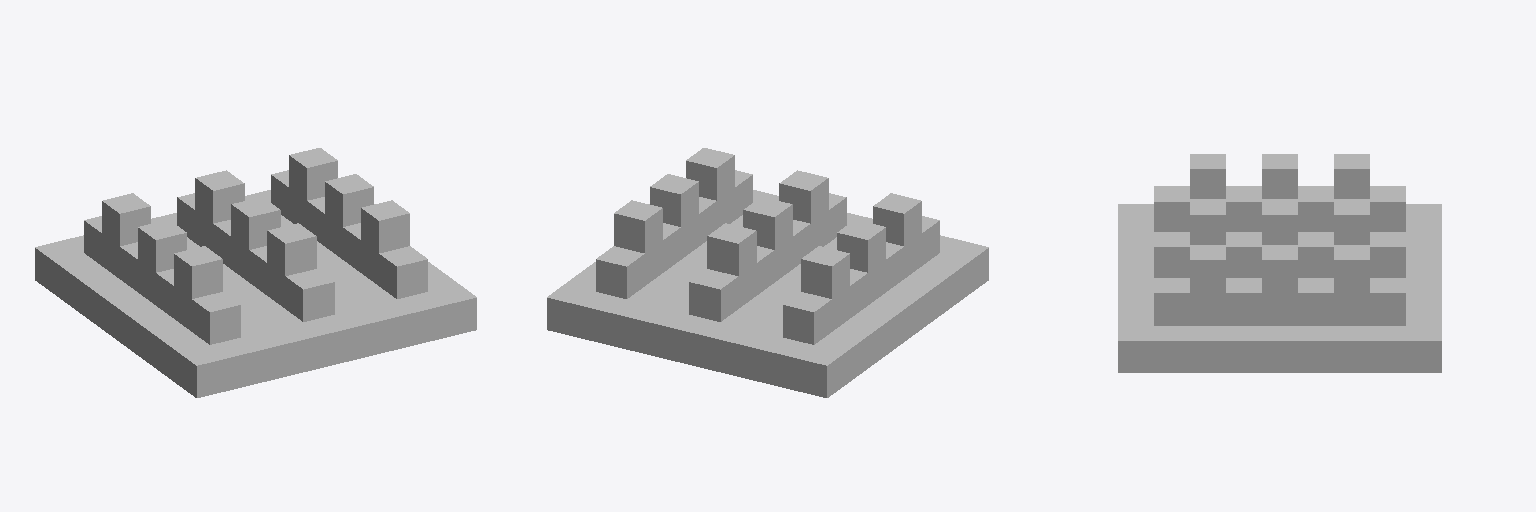
The model's file is Carrot 1.obj.
3 renders of one model, left to right at view 1: azimuth 30°, elevation 25°; view 2: azimuth 150°, elevation 25°; view 3: azimuth 270°, elevation 25°, orthographic.
Parts seen in each view (by area): view 1: object 1; view 2: object 1; view 3: object 1.
Part boxes in pixels (x1,y1,x2,y2): object 1: (35,148,476,397); object 1: (547,148,988,397); object 1: (1118,154,1441,372).
Size of the model in its own units: 0.9 by 0.3 by 0.9.